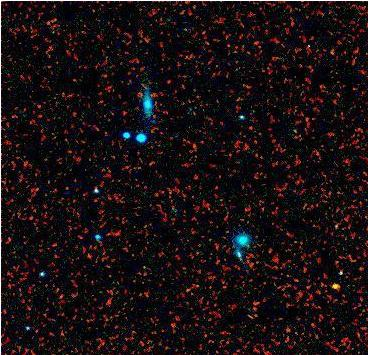star: (321, 270, 351, 300)
